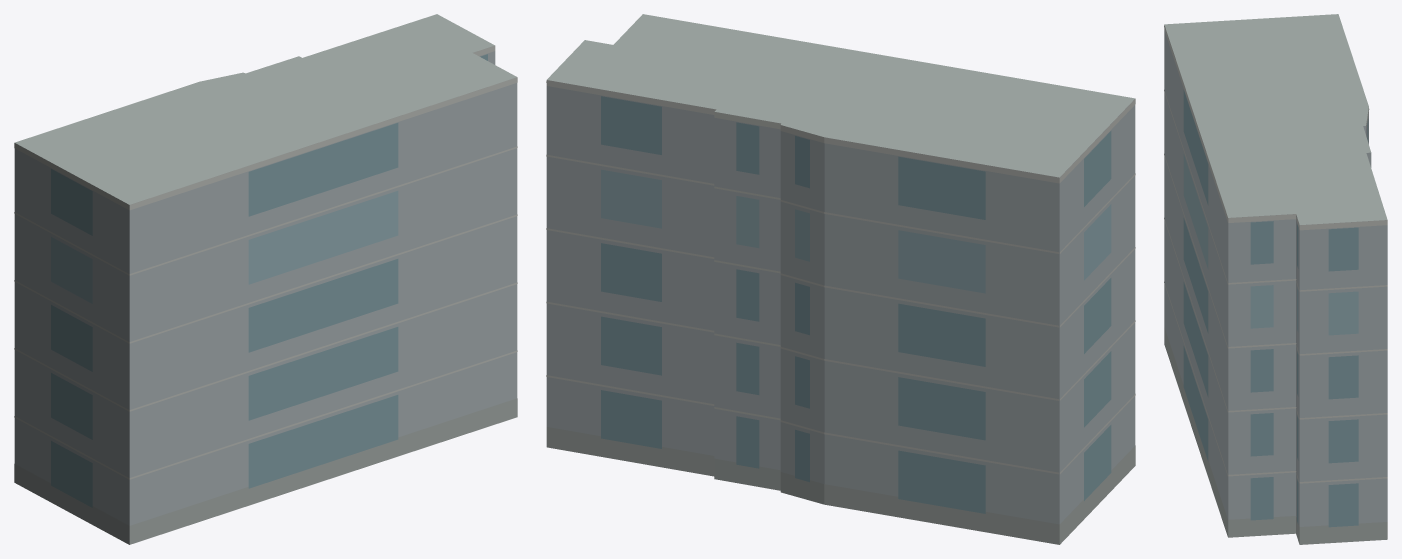
Rendered from survey-upis-32764337.glb.
3 views of the same model, side by side, from view 1: azimuth 30°, elevation 25°; view 2: azimuth 150°, elevation 25°; view 3: azimuth 270°, elevation 25° (orthographic). The views are drawn at different scales.
Visible parts, largest first — view 1: survey-upis-32764337.tmp; view 2: survey-upis-32764337.tmp; view 3: survey-upis-32764337.tmp.
Part boxes in pixels (x1,y1,x2,y2): survey-upis-32764337.tmp: (14,14,517,544); survey-upis-32764337.tmp: (546,14,1135,544); survey-upis-32764337.tmp: (1164,14,1387,544).
Size of the model in its own units: 21.2 by 14.95 by 9.49.
